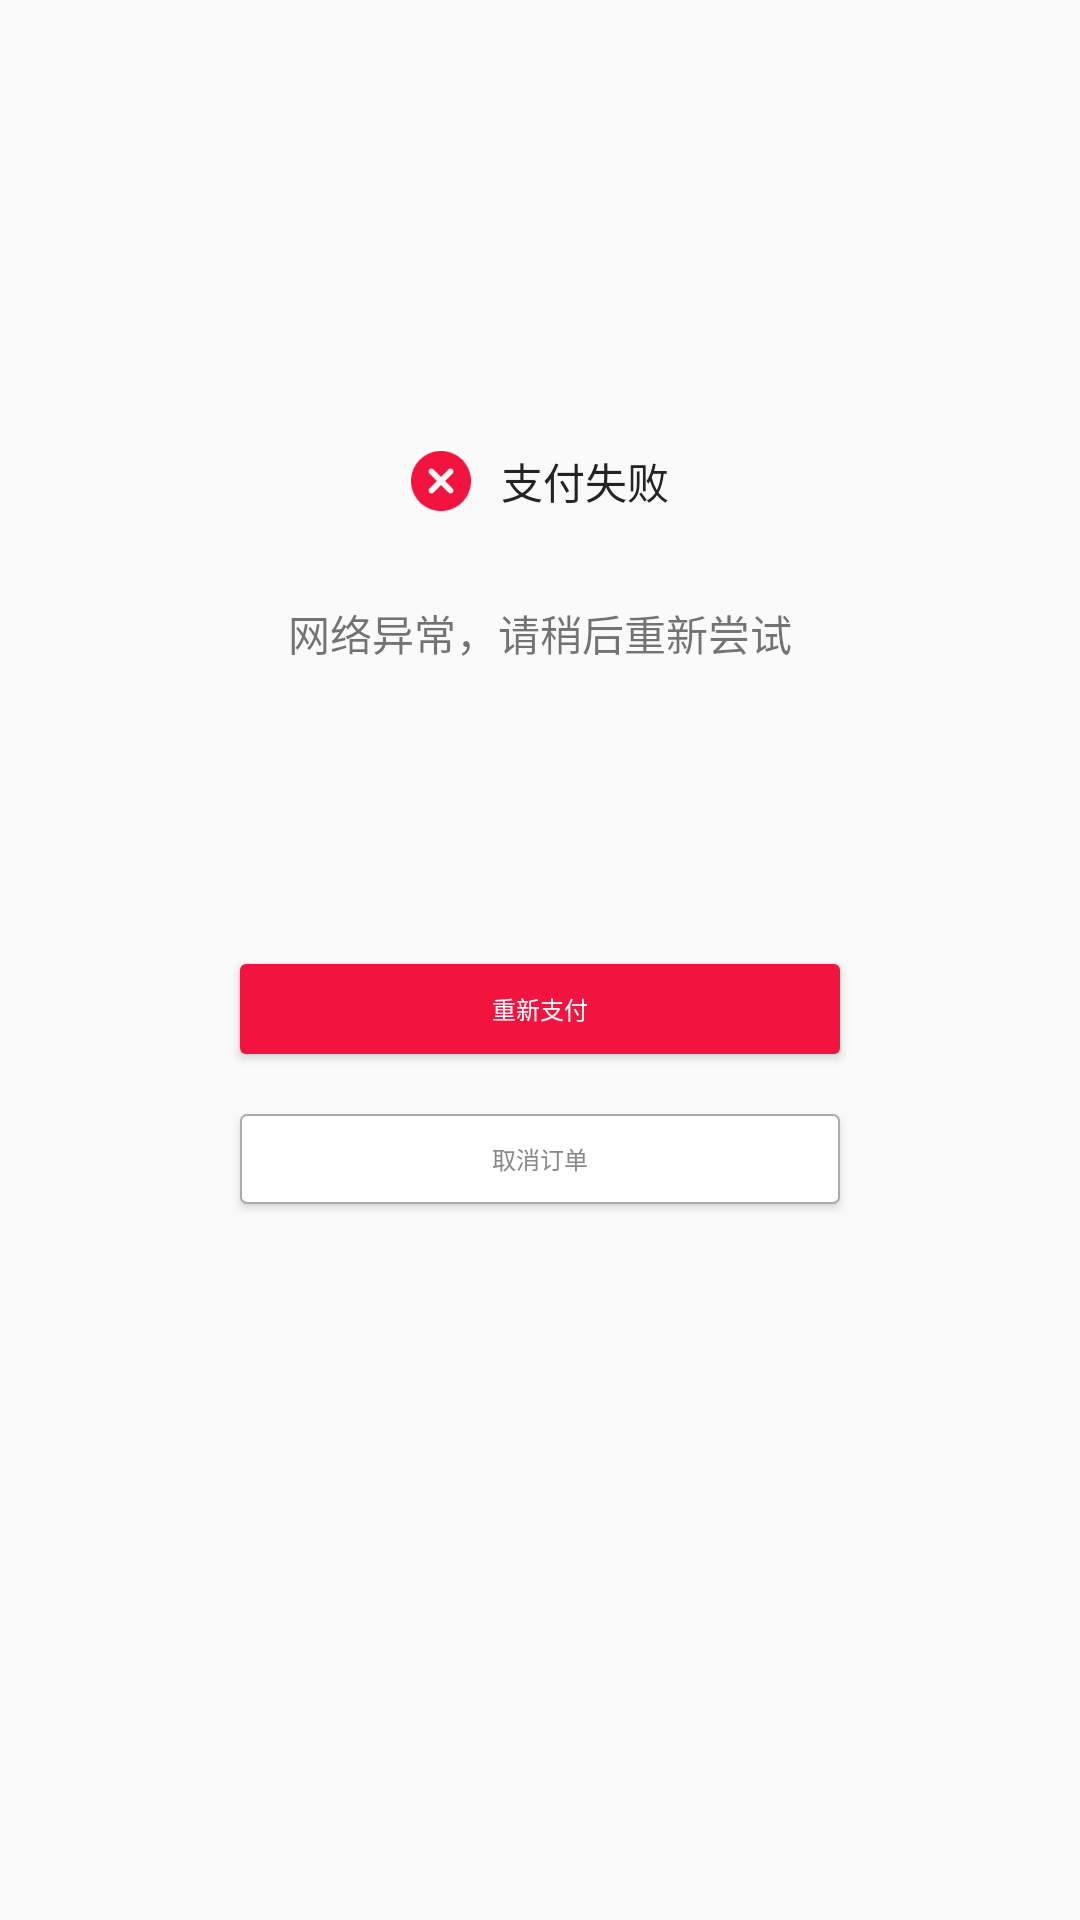

Screen size 1080×1920. Icon name, then its box in pixels as (x1, y1, x2, y2):
pay fail: (411, 451, 471, 511)
